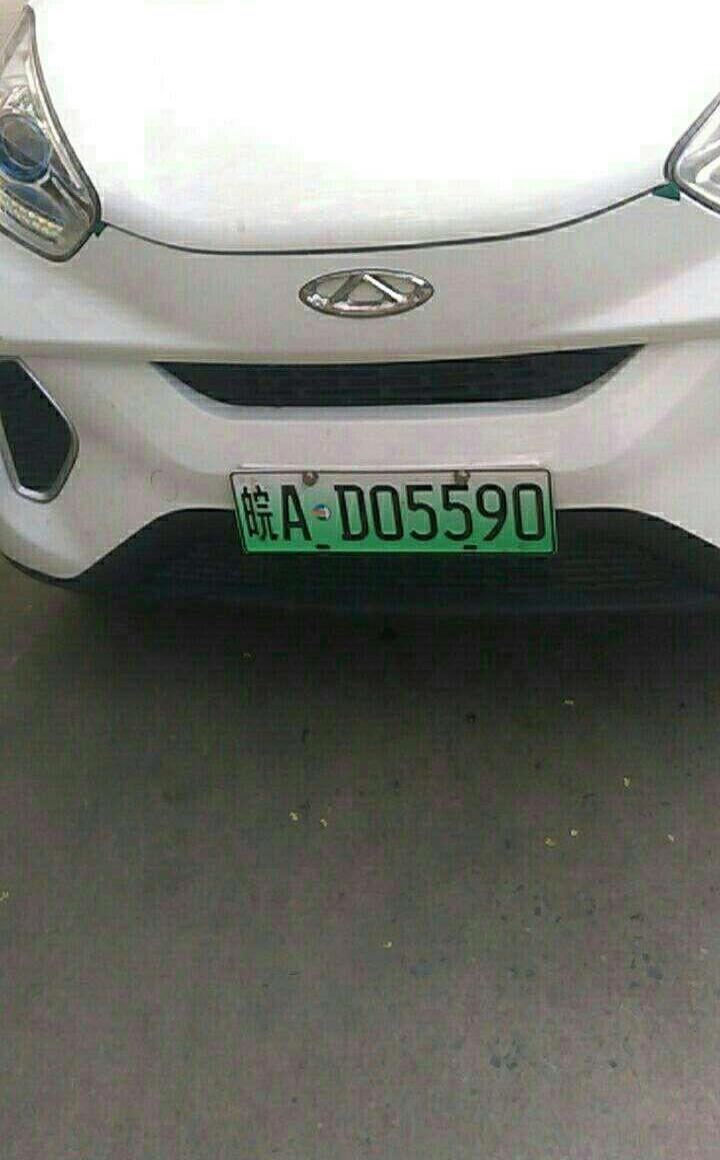car_id: (246, 466, 552, 558)
